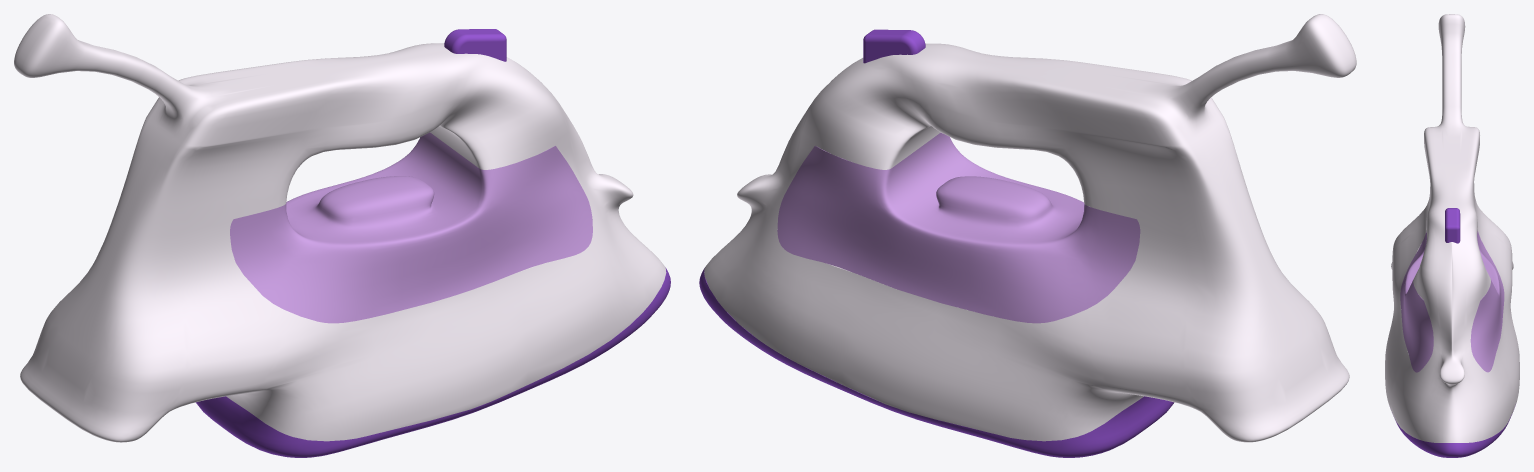
The model's file is free-form-iron.glb.
The picture shows the model from 3 angles, left to right: view 1: azimuth 30°, elevation 25°; view 2: azimuth 150°, elevation 25°; view 3: azimuth 270°, elevation 25°; orthographic projection. The views are drawn at different scales.
Parts seen in each view (by area): view 1: watch; view 2: watch; view 3: watch.
Boxes of the visible parts, x1,y1,x2,y2 form: watch: [14, 14, 670, 457]; watch: [699, 14, 1356, 457]; watch: [1385, 14, 1519, 457].
Bounding box in the file's own units: 31.13 × 21.18 × 9.08.
